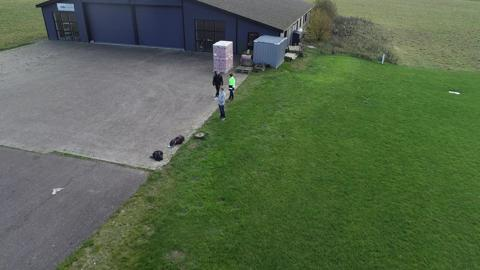RockwoolPallet: (212, 39, 234, 73)
